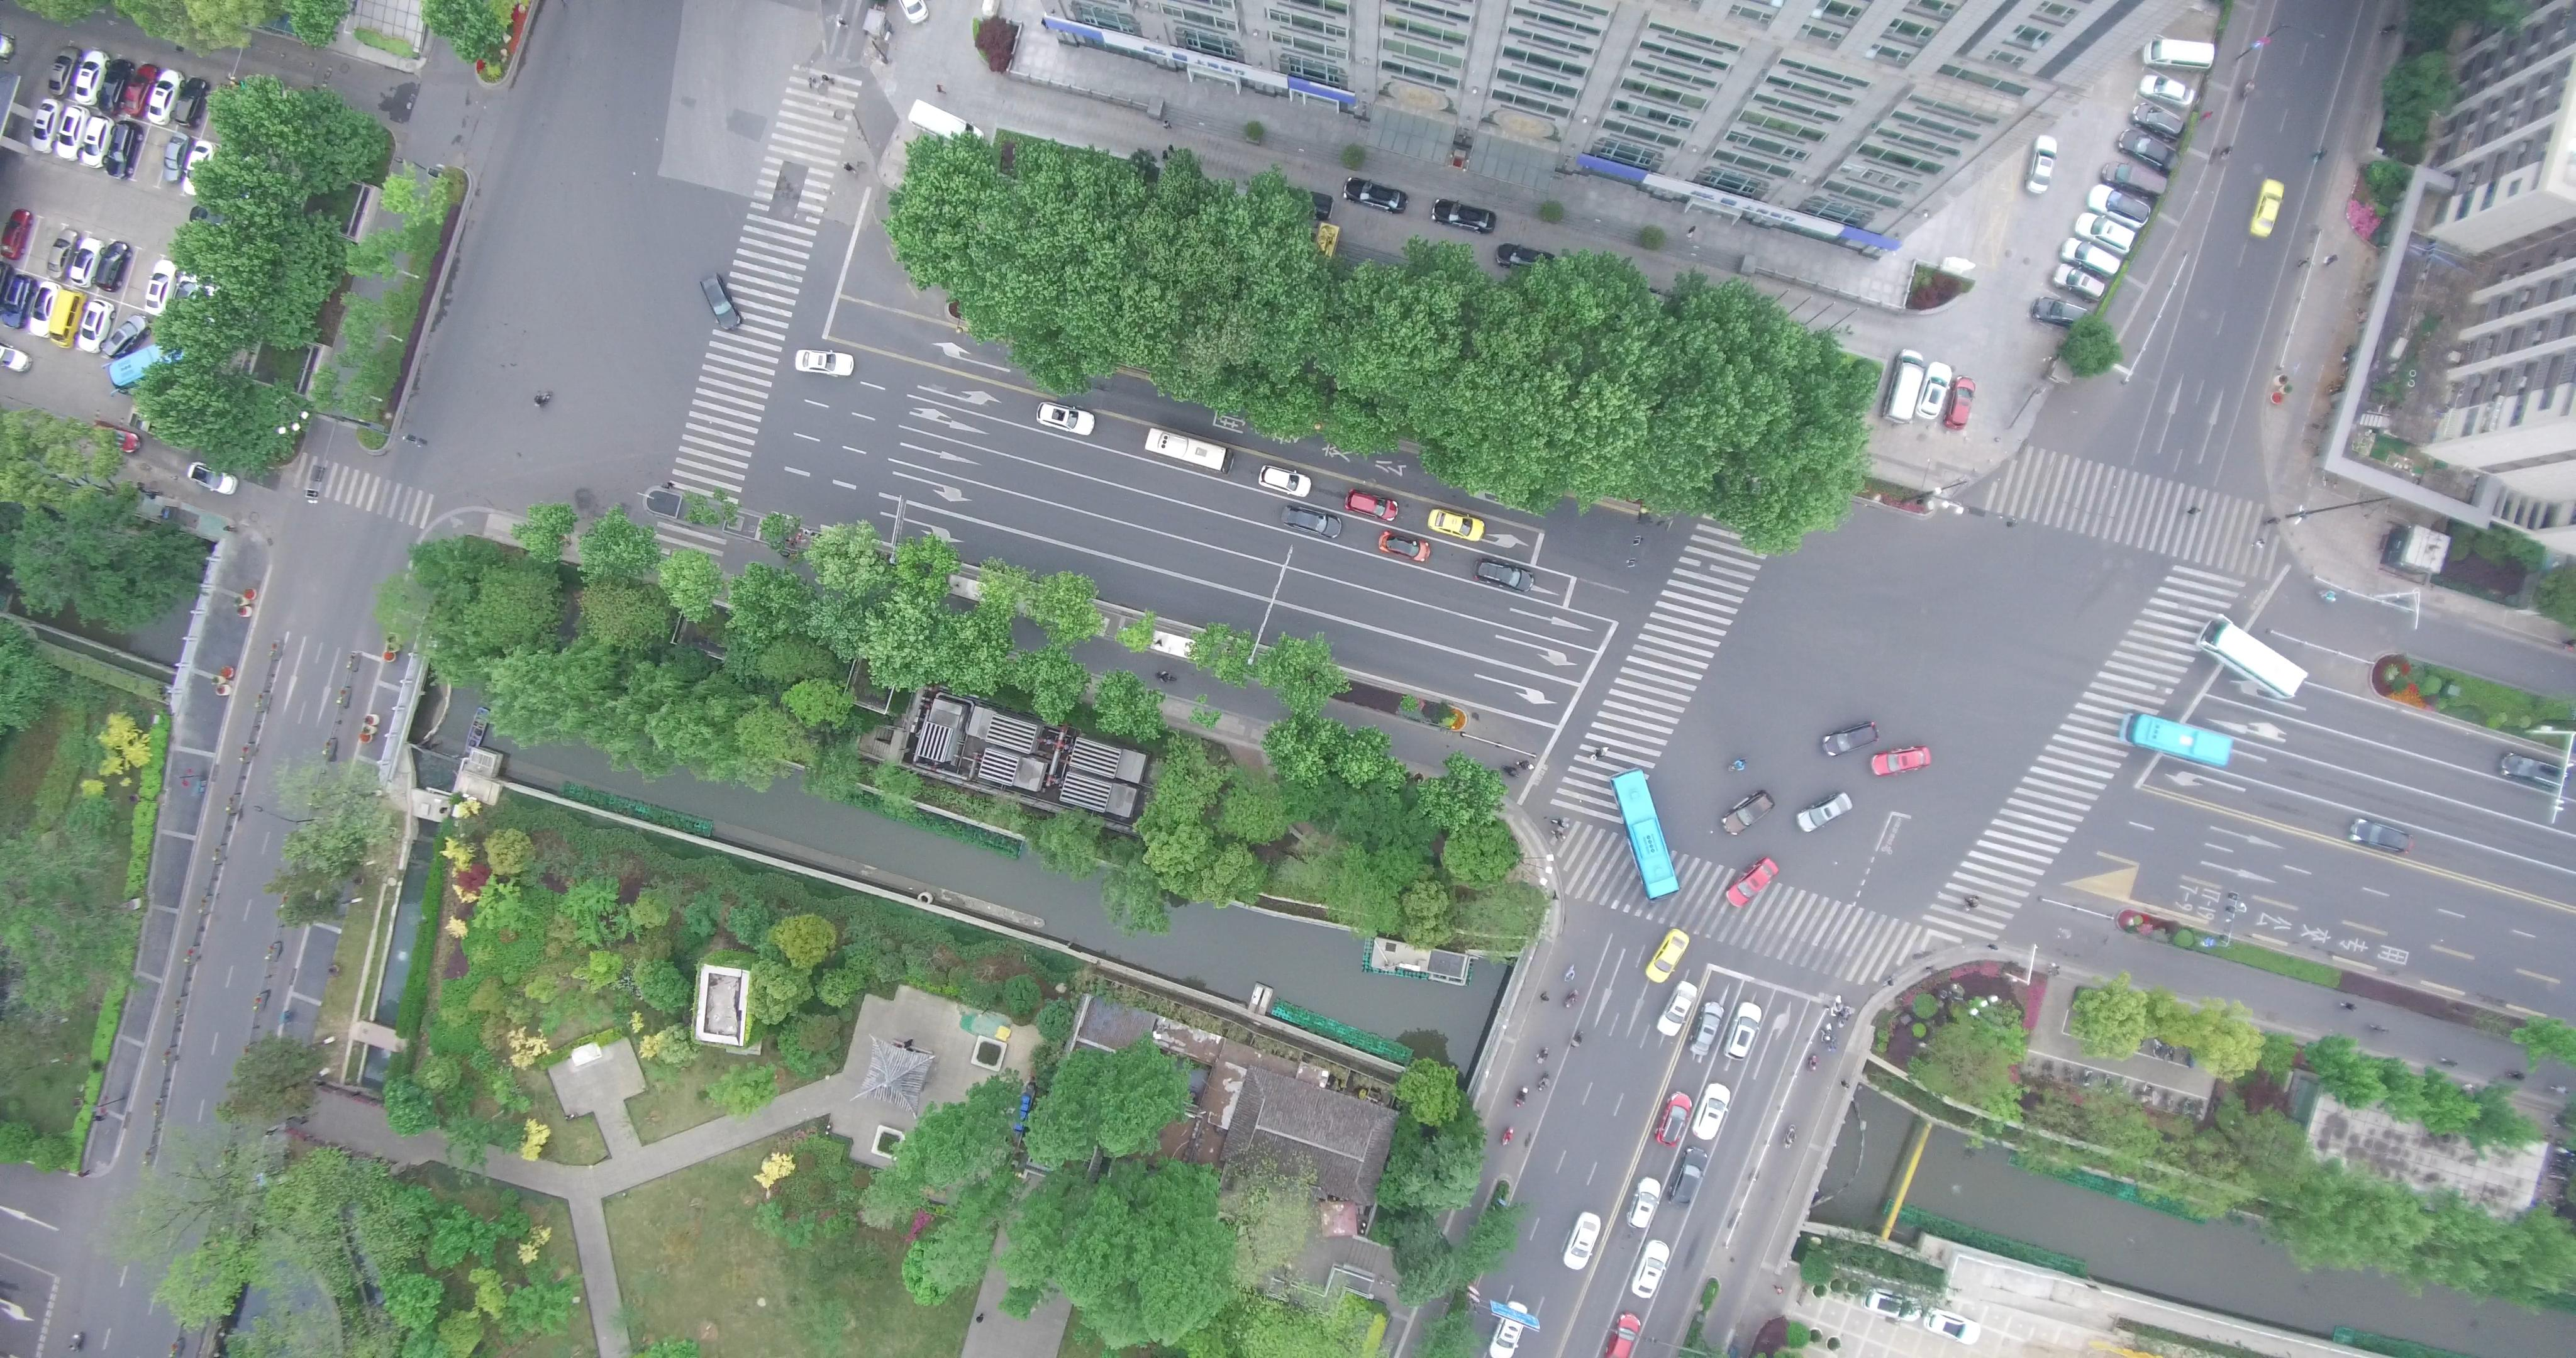Vehicle: (2196, 612, 2310, 699), (1610, 768, 1682, 901), (2123, 717, 2242, 768), (1133, 428, 1237, 475), (910, 101, 983, 147), (1883, 349, 1925, 424), (2085, 184, 2152, 230), (2099, 160, 2171, 203), (2116, 129, 2181, 176), (2073, 213, 2138, 257), (2136, 36, 2217, 72), (1641, 927, 1692, 981), (1719, 789, 1775, 837), (1724, 857, 1777, 906), (1431, 198, 1499, 235), (2050, 262, 2109, 305), (2058, 239, 2123, 278), (2021, 131, 2060, 196), (101, 310, 152, 360), (2130, 101, 2186, 145), (1794, 789, 1852, 831), (145, 66, 186, 126), (1666, 1147, 1707, 1206), (1629, 1239, 1670, 1298), (2135, 72, 2196, 111), (48, 293, 90, 349), (1561, 1211, 1601, 1269), (1279, 506, 1343, 544), (1724, 1002, 1763, 1062), (699, 274, 741, 329), (1656, 981, 1697, 1038), (2247, 176, 2285, 237), (1692, 1082, 1731, 1140), (72, 48, 111, 106), (1860, 1288, 1923, 1324), (1491, 1298, 1528, 1358), (2, 273, 39, 332), (2346, 818, 2411, 852), (1343, 179, 1407, 213), (77, 298, 116, 354), (1424, 506, 1486, 542), (1690, 1000, 1728, 1058), (1034, 400, 1097, 434), (95, 60, 135, 114), (1917, 360, 1952, 419), (1821, 719, 1877, 757), (2496, 751, 2561, 784), (56, 106, 92, 164), (1624, 1176, 1663, 1229), (182, 141, 220, 196), (107, 119, 141, 179), (1922, 1307, 1978, 1343), (95, 240, 133, 293), (123, 63, 158, 118), (143, 261, 179, 315), (1472, 559, 1535, 590), (68, 237, 106, 288), (46, 46, 82, 99), (1656, 1092, 1692, 1145), (2027, 295, 2089, 325), (1869, 745, 1930, 775), (29, 281, 61, 339), (1942, 375, 1976, 429), (1377, 532, 1433, 564), (1256, 465, 1312, 498), (1601, 1312, 1642, 1356), (82, 116, 116, 169), (2, 206, 36, 259), (174, 77, 208, 129), (34, 97, 65, 155), (89, 419, 141, 452), (46, 228, 80, 278), (162, 131, 193, 186), (1344, 491, 1399, 521), (186, 462, 237, 494), (1496, 242, 1555, 269), (791, 349, 854, 375), (0, 339, 31, 375), (889, 0, 929, 22)
